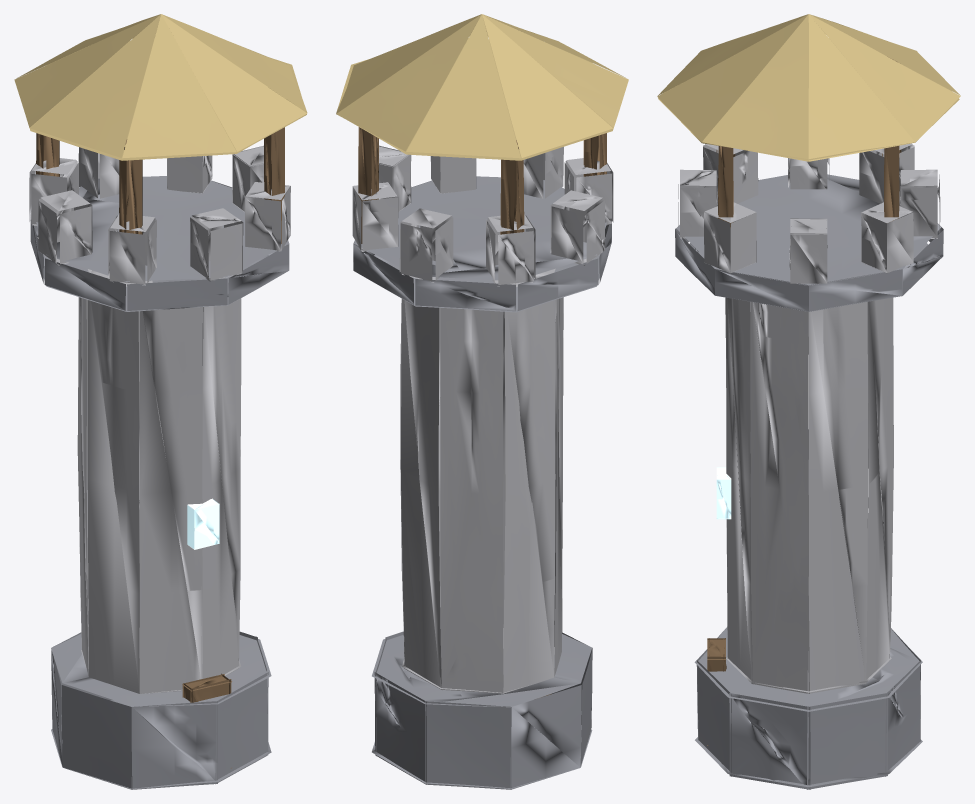
Rendered from watchtower.glb.
The picture shows the model from 3 angles, left to right: view 1: azimuth 30°, elevation 25°; view 2: azimuth 150°, elevation 25°; view 3: azimuth 270°, elevation 25°; orthographic projection.
Parts seen in each view (by area): view 1: TowerBase; view 2: TowerBase; view 3: TowerBase.
Boxes of the visible parts, x1,y1,x2,y2 form: TowerBase: [14, 14, 307, 789]; TowerBase: [336, 14, 628, 789]; TowerBase: [657, 14, 960, 789].
Bounding box in the file's own units: 1.64 × 4.4 × 1.65.
